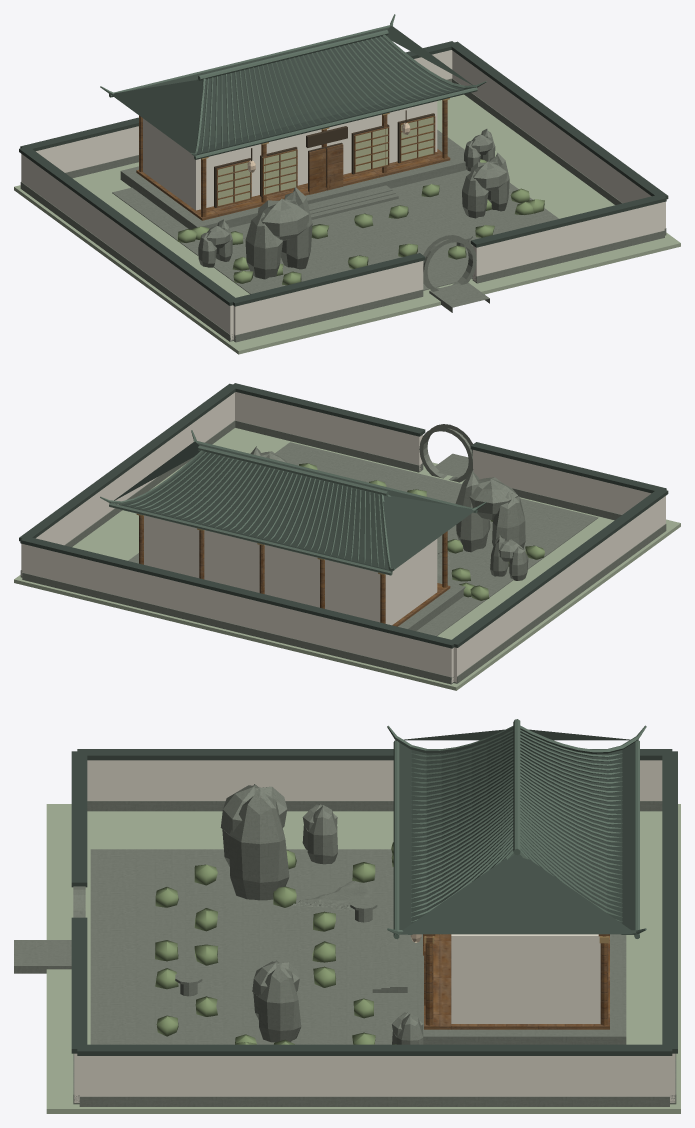
File: hengwuyuan.glb
3 views of the same model, one above another, from view 1: azimuth 30°, elevation 25°; view 2: azimuth 150°, elevation 25°; view 3: azimuth 270°, elevation 25° (orthographic). The views are drawn at different scales.
Parts seen in each view (by area): view 1: hengwuyuan_stone, hengwuyuan_plaster, hengwuyuan_roof, hengwuyuan_earth, hengwuyuan_tile, hengwuyuan_wood, hengwuyuan_paper, hengwuyuan_lightleaf, hengwuyuan_darkwood; view 2: hengwuyuan_plaster, hengwuyuan_roof, hengwuyuan_stone, hengwuyuan_earth, hengwuyuan_tile, hengwuyuan_wood, hengwuyuan_lightleaf; view 3: hengwuyuan_stone, hengwuyuan_roof, hengwuyuan_plaster, hengwuyuan_earth, hengwuyuan_tile, hengwuyuan_lightleaf, hengwuyuan_wood, PolyHaven_coast_rocks_02.003.
Part boxes in pixels (x1=…): hengwuyuan_stone: x1=20, y1=78, x2=666, y2=342; hengwuyuan_plaster: x1=21, y1=50, x2=665, y2=340; hengwuyuan_roof: x1=19, y1=26, x2=668, y2=306; hengwuyuan_earth: x1=14, y1=94, x2=680, y2=354; hengwuyuan_tile: x1=100, y1=14, x2=486, y2=159; hengwuyuan_wood: x1=136, y1=100, x2=450, y2=220; hengwuyuan_paper: x1=218, y1=117, x2=433, y2=205; hengwuyuan_lightleaf: x1=177, y1=159, x2=544, y2=285; hengwuyuan_darkwood: x1=214, y1=110, x2=434, y2=207; hengwuyuan_plaster: x1=21, y1=392, x2=665, y2=682; hengwuyuan_roof: x1=19, y1=383, x2=668, y2=648; hengwuyuan_stone: x1=20, y1=420, x2=666, y2=684; hengwuyuan_earth: x1=14, y1=428, x2=680, y2=690; hengwuyuan_tile: x1=100, y1=430, x2=486, y2=575; hengwuyuan_wood: x1=139, y1=515, x2=450, y2=626; hengwuyuan_lightleaf: x1=299, y1=463, x2=544, y2=600; hengwuyuan_stone: x1=14, y1=784, x2=676, y2=1106; hengwuyuan_roof: x1=71, y1=729, x2=677, y2=1055; hengwuyuan_plaster: x1=74, y1=760, x2=675, y2=1102; hengwuyuan_earth: x1=46, y1=804, x2=680, y2=1113; hengwuyuan_tile: x1=387, y1=719, x2=646, y2=939; hengwuyuan_lightleaf: x1=155, y1=842, x2=396, y2=1044; hengwuyuan_wood: x1=423, y1=934, x2=609, y2=1029; PolyHaven_coast_rocks_02.003: x1=291, y1=880, x2=369, y2=911.
Bounding box in the file's own units: 33 × 10.23 × 30.5.
11 materials, 2 textured.
